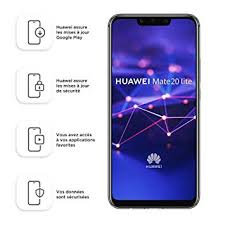huawei: (105, 9, 202, 210)
